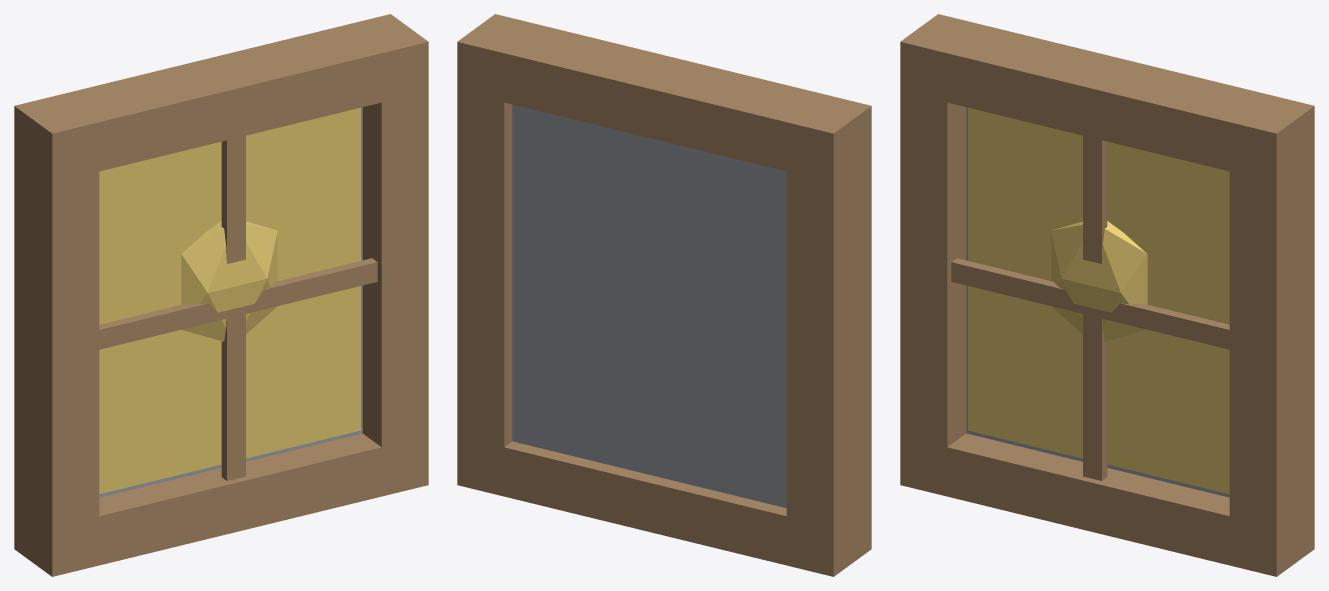
File: animprop_window_02.glb
3 renders of one model, left to right at view 1: azimuth 30°, elevation 25°; view 2: azimuth 150°, elevation 25°; view 3: azimuth 330°, elevation 25°, orthographic.
Visible parts, largest first — view 1: animprop; view 2: animprop; view 3: animprop.
Boxes of the visible parts, x1,y1,x2,y2 form: animprop: (14,14,428,576); animprop: (457,14,871,576); animprop: (900,14,1314,576).
Size of the model in its own units: 0.8 by 0.9 by 0.14.
